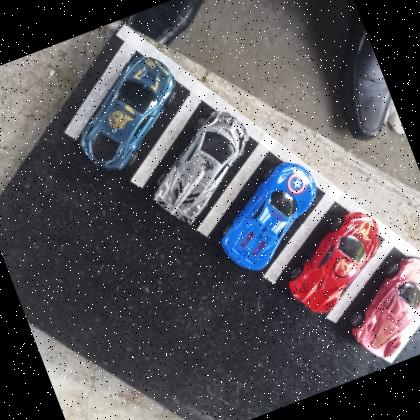Car: (56, 47, 199, 181), (130, 102, 272, 236), (200, 153, 337, 278), (270, 204, 402, 325), (333, 247, 420, 368)
